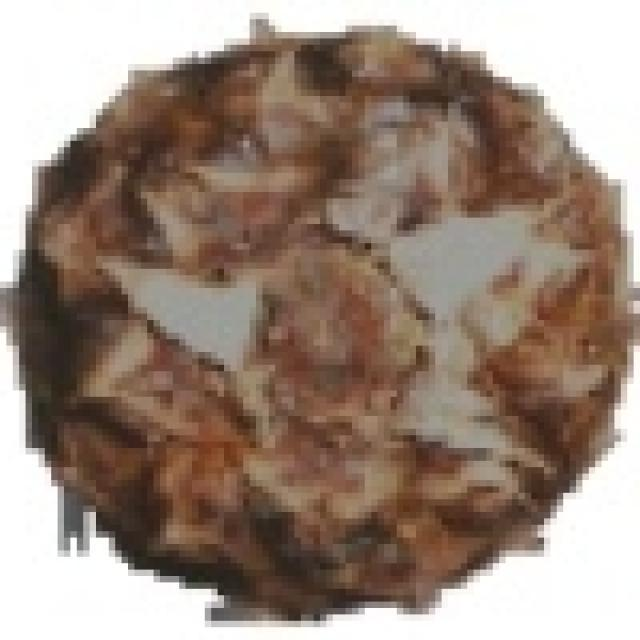pineapple: (32, 19, 634, 602)
